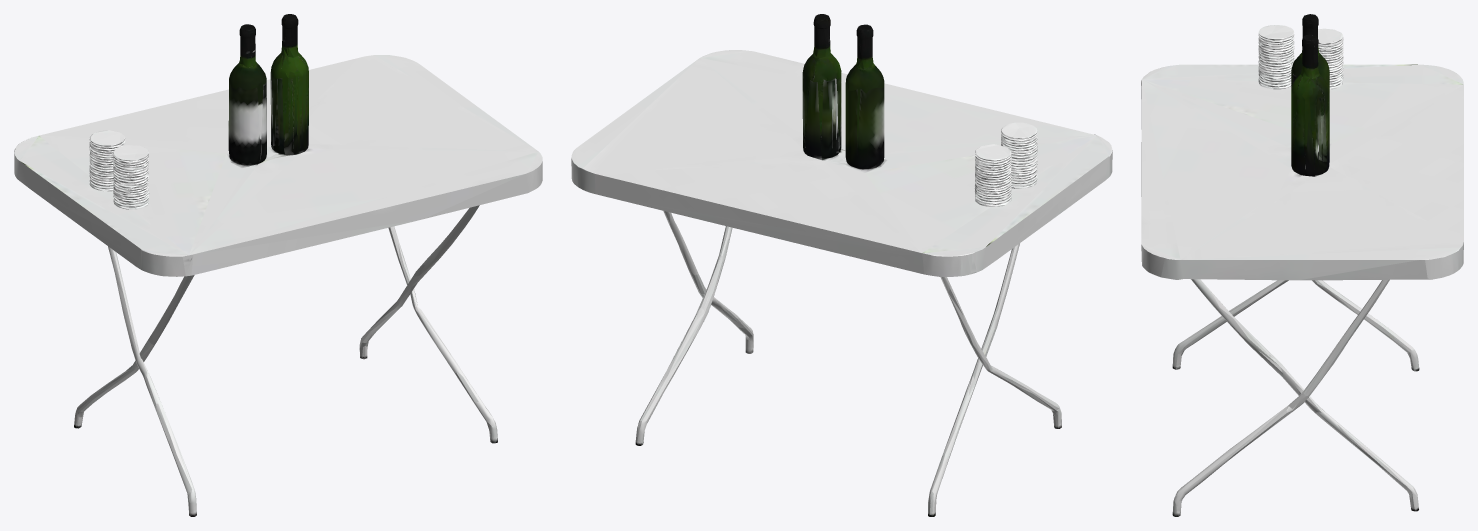
File: foldtable.glb
3 views of the same model, side by side, from view 1: azimuth 30°, elevation 25°; view 2: azimuth 150°, elevation 25°; view 3: azimuth 270°, elevation 25° (orthographic). The views are drawn at different scales.
Size of the model in its own units: 1.9 by 1.87 by 1.33.
1 material, 1 textured.
